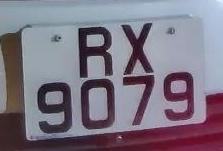0: (74, 73, 124, 134)
7: (118, 71, 166, 131)
9: (29, 73, 77, 139), (159, 68, 201, 129)
R: (68, 18, 121, 82)
X: (118, 16, 162, 79)
